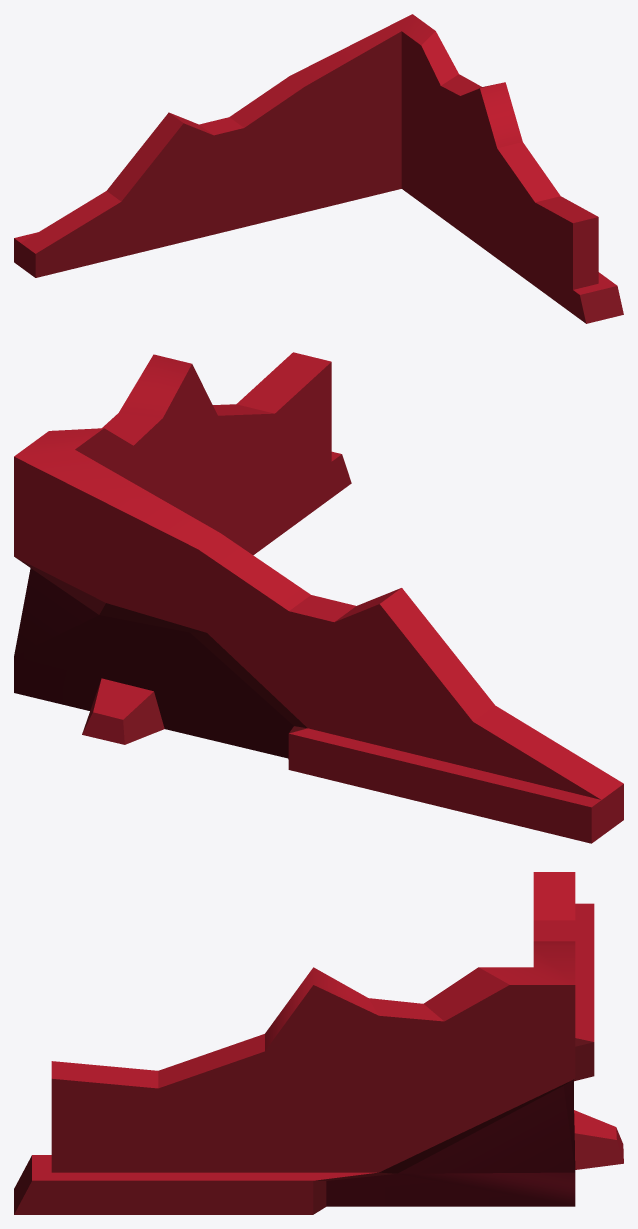
Rendered from wall_damaged_01.fbx.
3 renders of one model, top to bottom at view 1: azimuth 30°, elevation 25°; view 2: azimuth 150°, elevation 25°; view 3: azimuth 270°, elevation 25°, orthographic. The views are drawn at different scales.
Visible parts, largest first — view 1: wall_damaged_01; view 2: wall_damaged_01; view 3: wall_damaged_01.
Boxes of the visible parts, x1,y1,x2,y2 form: wall_damaged_01: [14, 14, 623, 323]; wall_damaged_01: [14, 352, 623, 843]; wall_damaged_01: [14, 872, 623, 1214].
Size of the model in its own units: 258 by 96.17 by 240.
